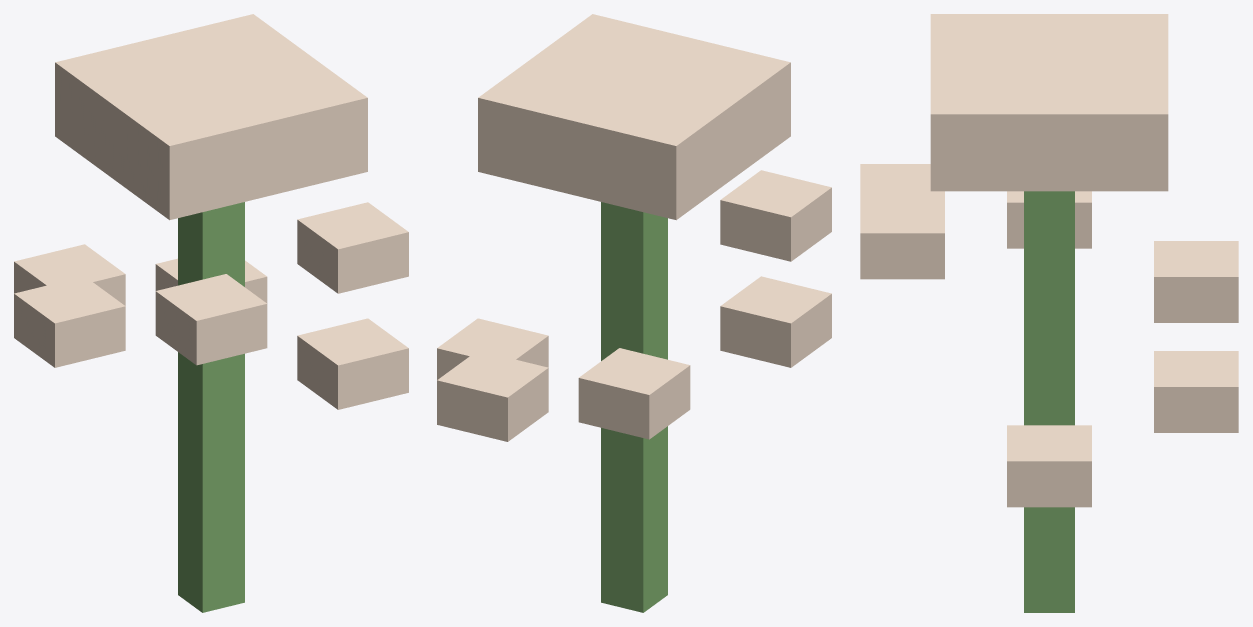
Rendered from Prop_DS_Herb_ZipVine_S3_V3.glb.
The picture shows the model from 3 angles, left to right: view 1: azimuth 30°, elevation 25°; view 2: azimuth 150°, elevation 25°; view 3: azimuth 270°, elevation 25°; orthographic projection. The views are drawn at different scales.
Parts seen in each view (by area): view 1: Cube.007, Cube, Cube.005, Cube.004, Cube.001, Cube.006, Cube.003, Cube.002; view 2: Cube.007, Cube, Cube.003, Cube.002, Cube.004, Cube.005, Cube.001; view 3: Cube.007, Cube, Cube.001, Cube.006, Cube.002, Cube.003, Cube.005, Cube.004.
Part boxes in pixels (left/top/right/bottom): Cube.007: left=55, top=14, right=367, bottom=220; Cube: left=178, top=202, right=244, bottom=612; Cube.005: left=155, top=274, right=267, bottom=365; Cube.004: left=14, top=276, right=125, bottom=367; Cube.001: left=297, top=318, right=408, bottom=409; Cube.006: left=297, top=202, right=408, bottom=293; Cube.003: left=14, top=244, right=125, bottom=305; Cube.002: left=155, top=258, right=267, bottom=303; Cube.007: left=478, top=14, right=790, bottom=220; Cube: left=601, top=202, right=667, bottom=612; Cube.003: left=578, top=348, right=690, bottom=439; Cube.002: left=437, top=350, right=548, bottom=441; Cube.004: left=720, top=276, right=831, bottom=367; Cube.005: left=720, top=170, right=831, bottom=261; Cube.001: left=437, top=318, right=548, bottom=379; Cube.007: left=930, top=14, right=1168, bottom=191; Cube: left=1024, top=191, right=1074, bottom=612; Cube.001: left=1007, top=425, right=1091, bottom=507; Cube.006: left=860, top=197, right=944, bottom=279; Cube.002: left=1154, top=351, right=1238, bottom=432; Cube.003: left=1154, top=241, right=1238, bottom=322; Cube.005: left=860, top=164, right=944, bottom=197; Cube.004: left=1007, top=191, right=1091, bottom=248.
Bounding box in the file's own units: 0.5 × 0.7 × 0.4464.
